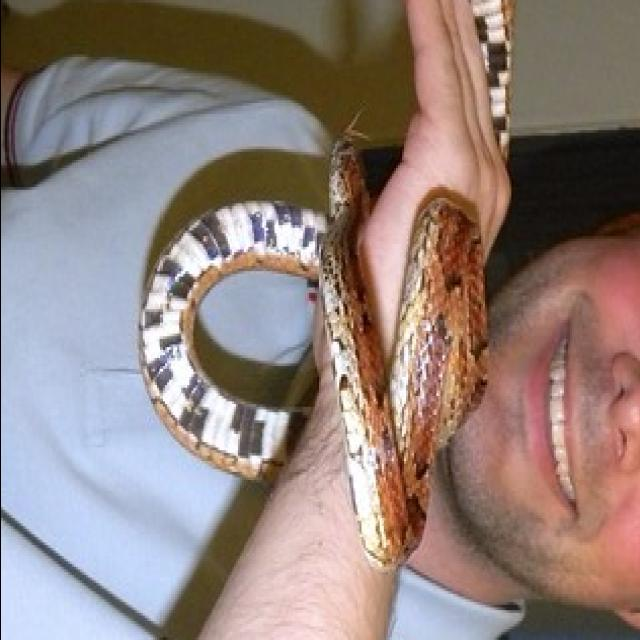Snake: (0, 0, 519, 569)
